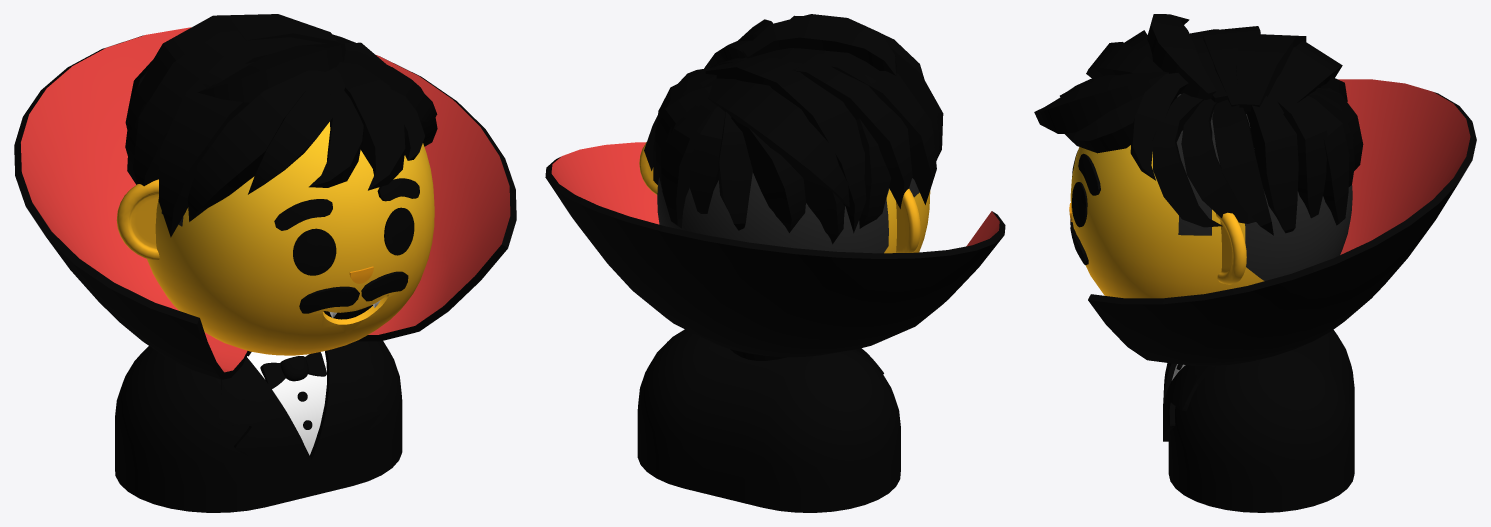
File: man_vampire.fbx
The picture shows the model from 3 angles, left to right: view 1: azimuth 30°, elevation 25°; view 2: azimuth 150°, elevation 25°; view 3: azimuth 270°, elevation 25°; orthographic projection. The views are drawn at different scales.
Visible parts, largest first — view 1: Circle.1032, Cube.2565, Roundcube.218, Sphere.173, Circle.1029, Circle.1026, Cylinder.186, Circle.1033, Circle.1028, Circle.1030, Cube.2573; view 2: Cube.2565, Circle.1032, Sphere.173, Roundcube.218, Cylinder.186; view 3: Cube.2565, Circle.1032, Sphere.173, Roundcube.218, Circle.1029, Cylinder.186, Circle.1026, Circle.1028.
Part boxes in pixels (<box>): Circle.1032: <box>14,27,516,379</box>; Cube.2565: <box>125,14,437,237</box>; Roundcube.218: <box>147,122,434,355</box>; Sphere.173: <box>115,341,402,512</box>; Circle.1029: <box>218,341,384,482</box>; Circle.1026: <box>293,207,414,275</box>; Cylinder.186: <box>116,179,159,260</box>; Circle.1033: <box>299,271,408,313</box>; Circle.1028: <box>274,178,419,230</box>; Circle.1030: <box>260,352,326,388</box>; Cube.2573: <box>280,356,308,381</box>; Cube.2565: <box>644,14,943,244</box>; Circle.1032: <box>545,142,1005,360</box>; Sphere.173: <box>637,329,900,512</box>; Roundcube.218: <box>657,172,930,253</box>; Cylinder.186: <box>639,142,920,252</box>; Cube.2565: <box>1034,14,1363,235</box>; Circle.1032: <box>1088,79,1476,365</box>; Sphere.173: <box>1168,330,1354,512</box>; Roundcube.218: <box>1070,94,1352,298</box>; Circle.1029: <box>1163,363,1215,441</box>; Cylinder.186: <box>1216,212,1246,284</box>; Circle.1026: <box>1072,151,1087,227</box>; Circle.1028: <box>1078,153,1100,195</box>.
Bounding box in the file's own units: 253 × 248 × 238.
2 materials, 2 textured.
